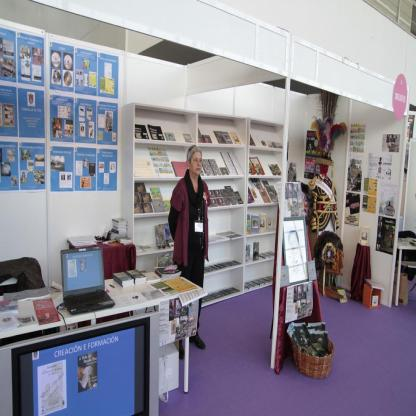board: (60, 244, 116, 315)
